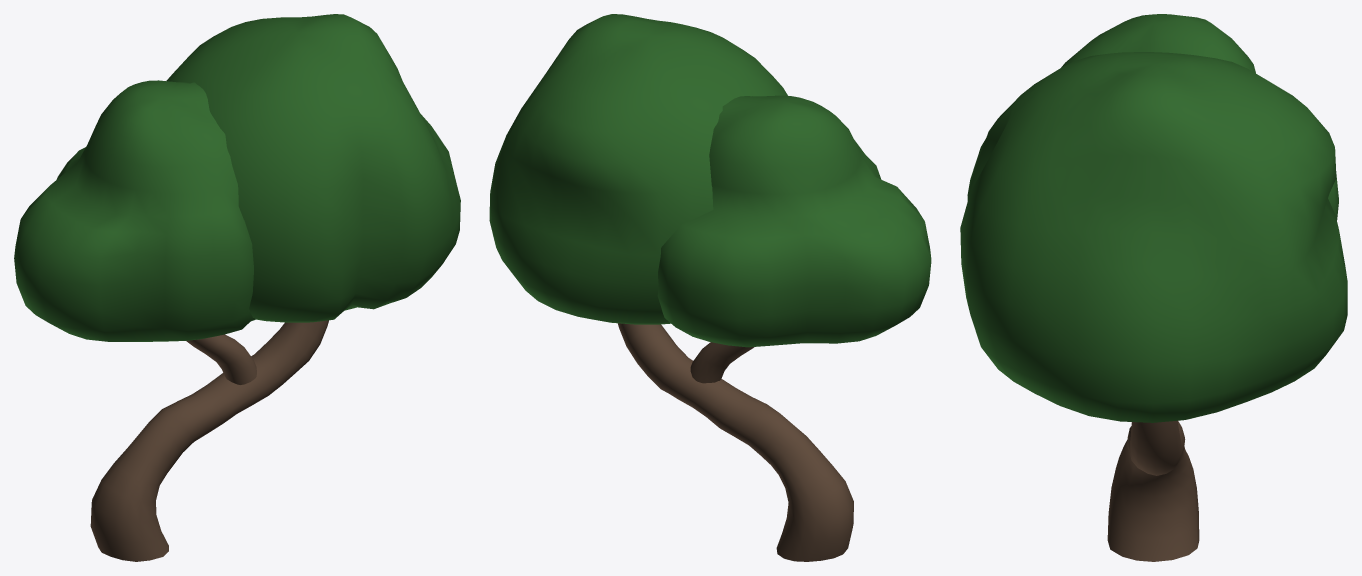
File: tree-1-3.fbx
3 renders of one model, left to right at view 1: azimuth 30°, elevation 25°; view 2: azimuth 150°, elevation 25°; view 3: azimuth 270°, elevation 25°, orthographic. The views are drawn at different scales.
Parts seen in each view (by area): view 1: Leaves.001, Trunk, Branch; view 2: Leaves.001, Trunk, Branch; view 3: Leaves.001, Trunk.
Part boxes in pixels (x1,y1,x2,y2): Leaves.001: (14, 14, 460, 341); Trunk: (90, 320, 328, 561); Branch: (186, 334, 256, 384); Leaves.001: (489, 14, 931, 347); Trunk: (618, 323, 853, 561); Branch: (690, 342, 754, 383); Leaves.001: (960, 14, 1347, 422); Trunk: (1107, 420, 1199, 561).
Size of the model in its own units: 291 by 318 by 192.
